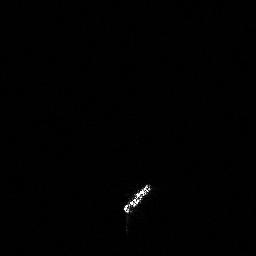ship: (120, 180, 155, 216)
